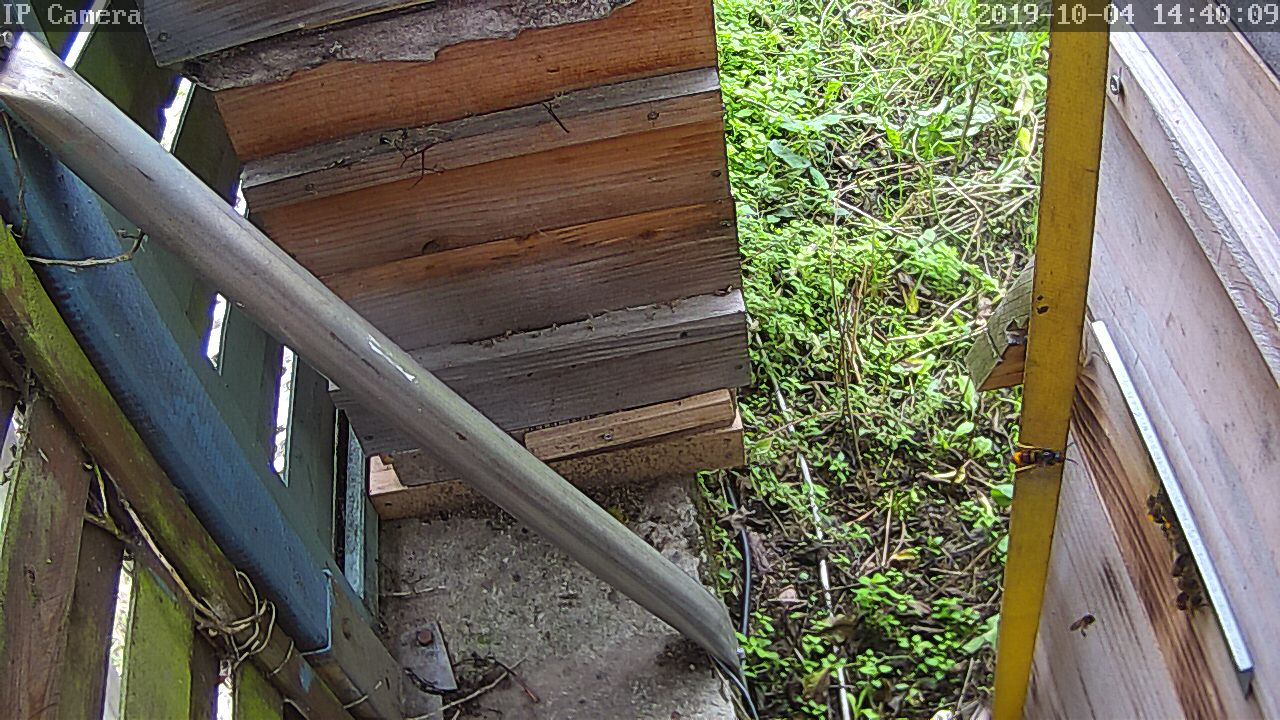bee: (1140, 484, 1183, 539), (1166, 565, 1210, 614), (1154, 528, 1196, 579), (1134, 481, 1170, 525), (1067, 609, 1094, 639)
hornet: (1004, 446, 1063, 476)
